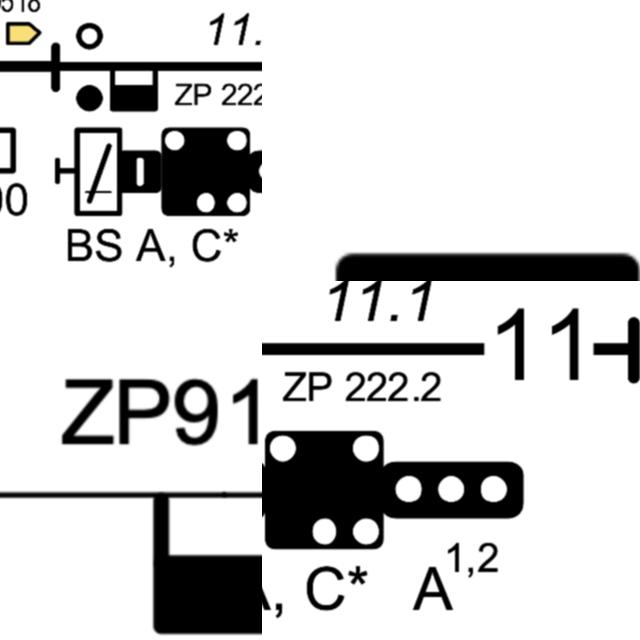radzaehler: (101, 472, 262, 640), (104, 54, 168, 118)
trackjoint: (601, 300, 640, 396)
tracknumber: (456, 281, 607, 398)
